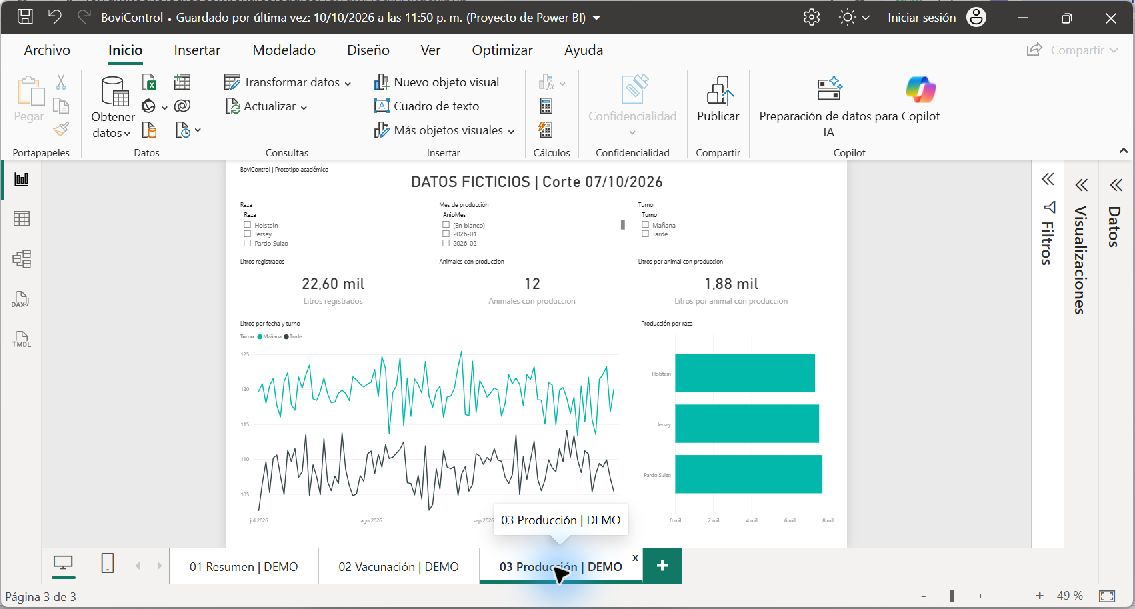

The page's visual inventory and layout, read from the dashboard file:
{"tool":"powerbi","page":{"name":"03 Producción | DEMO","canvas":[1280,800],"ordinal":2},"visuals":[{"type":"card","title":"BoviControl | Prototipo académico","fields":{"Values":["FactVacunacion.Aviso demo"]},"box":[24,12,1232,65],"z":17},{"type":"slicer","title":"Raza","fields":{"Values":["DimAnimal.Raza"]},"box":[24,85,392,100],"z":18},{"type":"slicer","title":"Mes de producción","fields":{"Values":["DimFecha.AnioMes"]},"box":[434,85,392,100],"z":19},{"type":"slicer","title":"Turno","fields":{"Values":["DimTurno.Turno"]},"box":[844,85,392,100],"z":20},{"type":"card","title":"Litros registrados","fields":{"Values":["FactVacunacion.Litros registrados"]},"box":[24,202,392,106],"z":21},{"type":"card","title":"Animales con produccion","fields":{"Values":["FactVacunacion.Animales con produccion"]},"box":[434,202,392,106],"z":22},{"type":"card","title":"Litros por animal con produccion","fields":{"Values":["FactVacunacion.Litros por animal con produccion"]},"box":[844,202,392,106],"z":23},{"type":"lineChart","title":"Litros por fecha y turno","fields":{"Category":["DimFecha.Fecha"],"Series":["DimTurno.Turno"],"Y":["FactVacunacion.Litros registrados"]},"box":[24,330,800,430],"z":24},{"type":"clusteredBarChart","title":"Producción por raza","fields":{"Category":["DimAnimal.Raza"],"Y":["FactVacunacion.Litros registrados"]},"box":[850,330,406,430],"z":25}]}

Visuals, with their boxes on the page's 1280x800 design canvas (x1, y1, x2, y2). These are canvas units, not pixel positions in the 1135x609 screenshot, which may show the page scaled, cropped or inside an application window:
"BoviControl | Prototipo académico" card: region(24, 12, 1256, 77)
"Raza" slicer: region(24, 85, 416, 185)
"Mes de producción" slicer: region(434, 85, 826, 185)
"Turno" slicer: region(844, 85, 1236, 185)
"Litros registrados" card: region(24, 202, 416, 308)
"Animales con produccion" card: region(434, 202, 826, 308)
"Litros por animal con produccion" card: region(844, 202, 1236, 308)
"Litros por fecha y turno" lineChart: region(24, 330, 824, 760)
"Producción por raza" clusteredBarChart: region(850, 330, 1256, 760)
